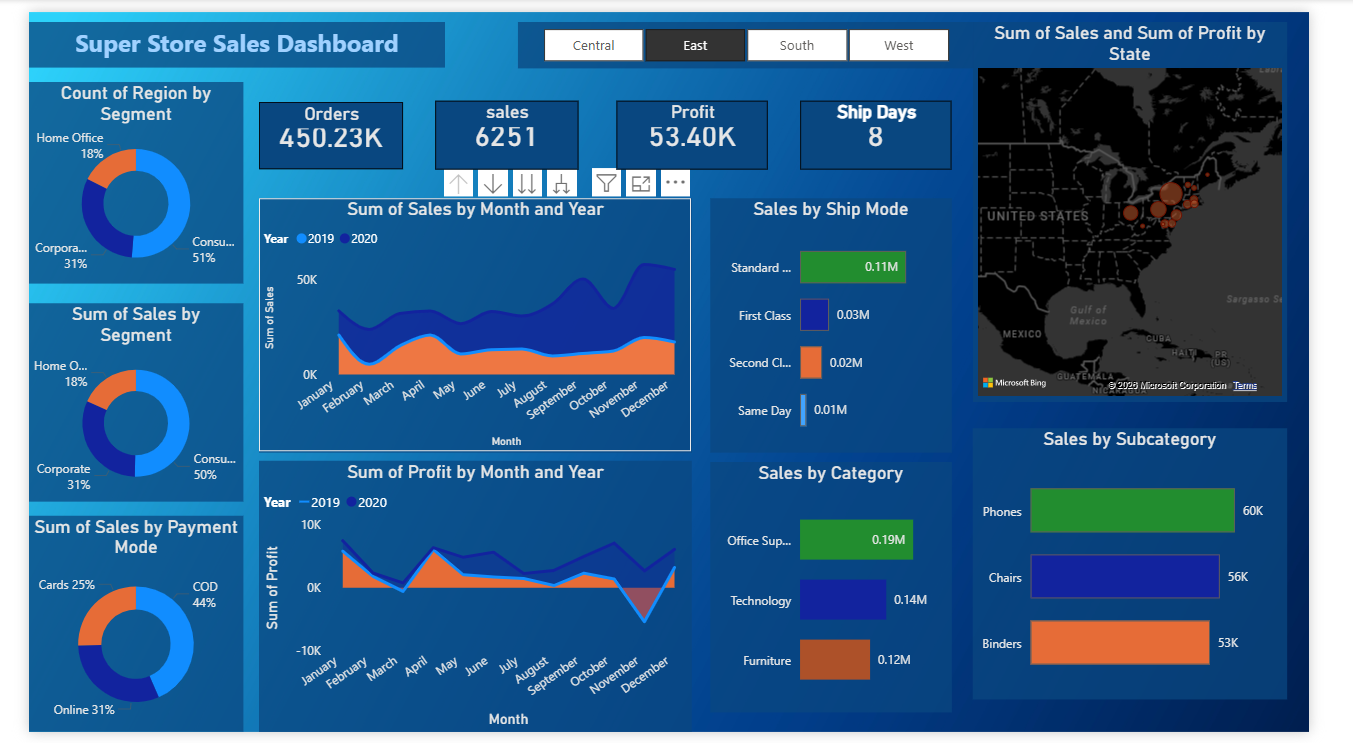

The dashboard page shown, as its layout file describes it:
{"tool":"powerbi","page":{"name":"Page 1","canvas":[1280,720],"ordinal":0},"visuals":[{"type":"clusteredBarChart","title":"Sales by Category","fields":{"Category":["SuperStore_Sales_Dataset.Category"],"Y":["Sum(SuperStore_Sales_Dataset.Sales)"]},"box":[681.4,450,241.4,250],"z":0},{"type":"clusteredBarChart","title":"Sales by Subcategory","fields":{"Category":["SuperStore_Sales_Dataset.Sub-Category"],"Y":["Sum(SuperStore_Sales_Dataset.Sales)"]},"box":[944.3,415.7,314.3,271.4],"z":1000},{"type":"clusteredBarChart","title":"Sales by Ship Mode","fields":{"Category":["SuperStore_Sales_Dataset.Ship Mode"],"Y":["Sum(SuperStore_Sales_Dataset.Sales)"]},"box":[681.4,185.7,241.4,254.3],"z":2000},{"type":"stackedAreaChart","fields":{"Y":["Sum(SuperStore_Sales_Dataset.Sales)"],"Category":["SuperStore_Sales_Dataset.Order Date.Variation.Date Hierarchy.Month","SuperStore_Sales_Dataset.Order Date.Variation.Date Hierarchy.Day"],"Series":["SuperStore_Sales_Dataset.Order Date.Variation.Date Hierarchy.Year"]},"box":[230,185.7,432.9,254.3],"z":3000},{"type":"map","fields":{"Category":["SuperStore_Sales_Dataset.State"],"Size":["Sum(SuperStore_Sales_Dataset.Sales)"]},"box":[944.3,10,314.3,380],"z":4000},{"type":"stackedAreaChart","fields":{"Category":["SuperStore_Sales_Dataset.Order Date.Variation.Date Hierarchy.Month","SuperStore_Sales_Dataset.Order Date.Variation.Date Hierarchy.Day"],"Series":["SuperStore_Sales_Dataset.Order Date.Variation.Date Hierarchy.Year"],"Y":["Sum(SuperStore_Sales_Dataset.Profit)"]},"box":[230,448.6,432.9,271.4],"z":5000},{"type":"donutChart","fields":{"Category":["SuperStore_Sales_Dataset.Segment"],"Y":["Sum(SuperStore_Sales_Dataset.Sales)"]},"box":[0,291.4,214.3,198.6],"z":6000},{"type":"donutChart","fields":{"Category":["SuperStore_Sales_Dataset.Payment Mode"],"Y":["Sum(SuperStore_Sales_Dataset.Sales)"]},"box":[0,504.3,214.3,215.7],"z":7000},{"type":"slicer","fields":{"Values":["SuperStore_Sales_Dataset.Region"]},"box":[488.8,10,455,46.2],"z":8000},{"type":"textbox","box":[0,10,415.7,45.7],"z":9000},{"type":"card","title":"Orders","fields":{"Values":["Sum(SuperStore_Sales_Dataset.Sales)"]},"box":[230,90,144.3,67.1],"z":10000},{"type":"card","title":"sales ","fields":{"Values":["Sum(SuperStore_Sales_Dataset.Quantity)"]},"box":[405.7,88.6,142.9,68.6],"z":11000},{"type":"card","title":"Profit","fields":{"Values":["Sum(SuperStore_Sales_Dataset.Profit)"]},"box":[587.1,88.6,151.4,68.6],"z":12000},{"type":"card","title":"Ship Days","fields":{"Values":["Avg(SuperStore_Sales_Dataset.AvgDelivery)"]},"box":[771.4,88.6,151.4,68.6],"z":13000},{"type":"donutChart","fields":{"Y":["CountNonNull(SuperStore_Sales_Dataset.Region)"],"Category":["SuperStore_Sales_Dataset.Segment"]},"box":[0,70,214.3,201.4],"z":14000}]}

Visuals, with their boxes in screenshot pixels (x1, y1, x2, y2), scaled from the page's 1280x720 canvas onto the 1353x743 screenshot:
"Sales by Category" clusteredBarChart: <bbox>720, 464, 975, 722</bbox>
"Sales by Subcategory" clusteredBarChart: <bbox>998, 429, 1330, 709</bbox>
"Sales by Ship Mode" clusteredBarChart: <bbox>720, 192, 975, 454</bbox>
stackedAreaChart - Sum(SuperStore_Sales_Dataset.Sales) x SuperStore_Sales_Dataset.Order Date.Variation.Date Hierarchy.Month: <bbox>243, 192, 701, 454</bbox>
map - SuperStore_Sales_Dataset.State x Sum(SuperStore_Sales_Dataset.Sales): <bbox>998, 10, 1330, 402</bbox>
stackedAreaChart - SuperStore_Sales_Dataset.Order Date.Variation.Date Hierarchy.Month x SuperStore_Sales_Dataset.Order Date.Variation.Date Hierarchy.Day: <bbox>243, 463, 701, 742</bbox>
donutChart - SuperStore_Sales_Dataset.Segment x Sum(SuperStore_Sales_Dataset.Sales): <bbox>0, 301, 227, 506</bbox>
donutChart - SuperStore_Sales_Dataset.Payment Mode x Sum(SuperStore_Sales_Dataset.Sales): <bbox>0, 520, 227, 742</bbox>
slicer - SuperStore_Sales_Dataset.Region: <bbox>517, 10, 998, 58</bbox>
textbox: <bbox>0, 10, 439, 57</bbox>
"Orders" card: <bbox>243, 93, 396, 162</bbox>
"sales " card: <bbox>429, 91, 580, 162</bbox>
"Profit" card: <bbox>621, 91, 781, 162</bbox>
"Ship Days" card: <bbox>815, 91, 975, 162</bbox>
donutChart - CountNonNull(SuperStore_Sales_Dataset.Region) x SuperStore_Sales_Dataset.Segment: <bbox>0, 72, 227, 280</bbox>
